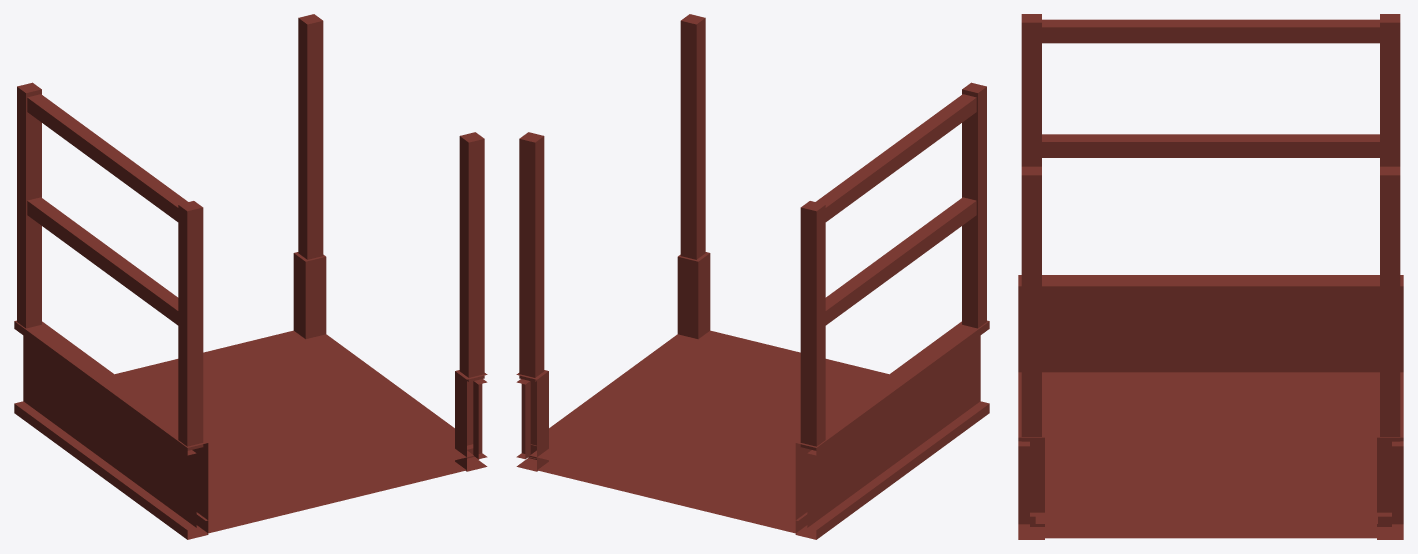
The model's file is Walkway New 3.fbx.
3 renders of one model, left to right at view 1: azimuth 30°, elevation 25°; view 2: azimuth 150°, elevation 25°; view 3: azimuth 270°, elevation 25°, orthographic. The views are drawn at different scales.
Parts seen in each view (by area): view 1: polySurface199; view 2: polySurface199; view 3: polySurface199.
Boxes of the visible parts, left/top/right/bottom form: polySurface199: left=14, top=14, right=487, bottom=539; polySurface199: left=516, top=14, right=989, bottom=539; polySurface199: left=1018, top=14, right=1403, bottom=539.
Bounding box in the file's own units: 129 × 134 × 129.
